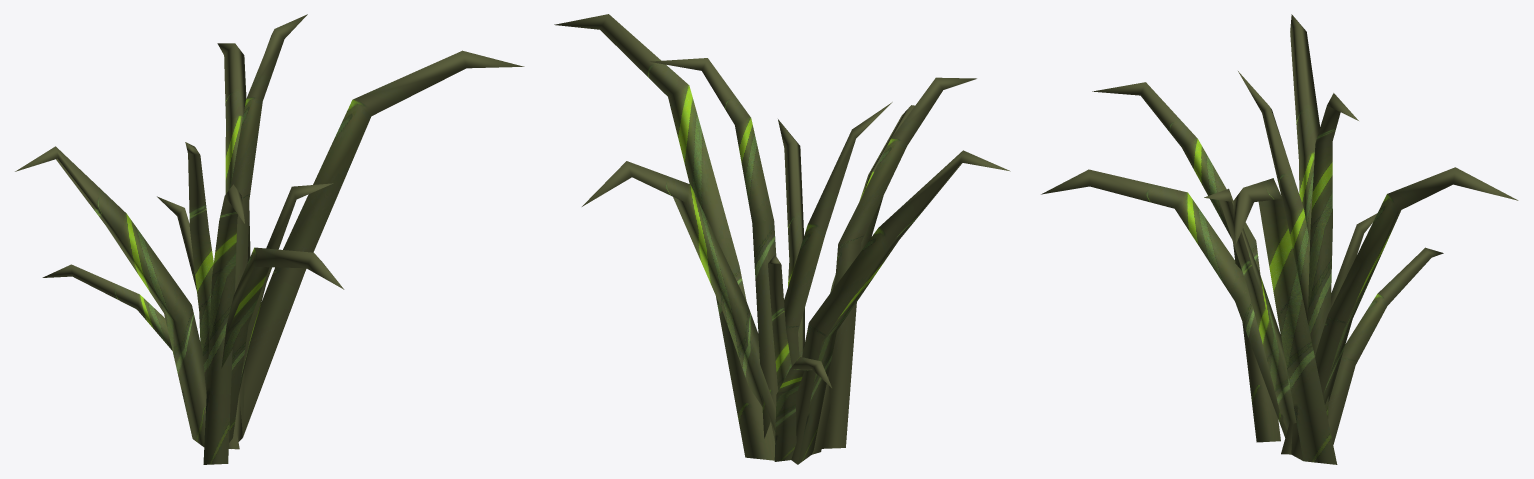
File: grassy.obj
3 renders of one model, left to right at view 1: azimuth 30°, elevation 25°; view 2: azimuth 150°, elevation 25°; view 3: azimuth 270°, elevation 25°, orthographic.
Parts seen in each view (by area): view 1: small_plant_01:stalks; view 2: small_plant_01:stalks; view 3: small_plant_01:stalks.
Part boxes in pixels (x1=…): small_plant_01:stalks: x1=15, y1=14, x2=524, y2=464; small_plant_01:stalks: x1=554, y1=14, x2=1010, y2=464; small_plant_01:stalks: x1=1041, y1=14, x2=1518, y2=464.
Size of the model in its own units: 1.02 by 0.7789 by 0.8635.
Materials: 1 (1 with a texture image).
